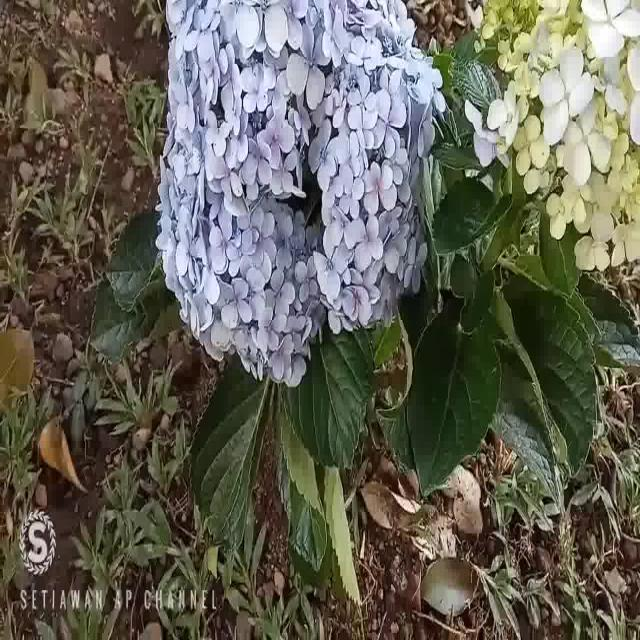Flower: (153, 1, 447, 372)
